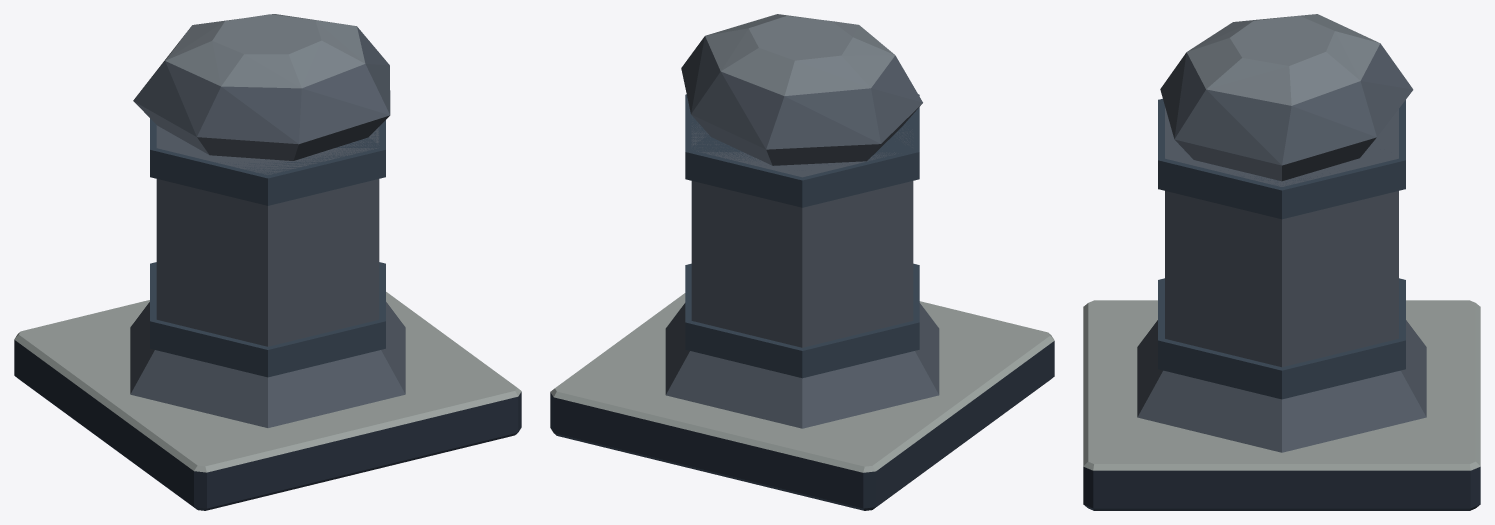
The model's file is pillar-broken.glb.
The picture shows the model from 3 angles, left to right: view 1: azimuth 30°, elevation 25°; view 2: azimuth 150°, elevation 25°; view 3: azimuth 270°, elevation 25°; orthographic projection. The views are drawn at different scales.
Parts seen in each view (by area): view 1: pillar-broken__body; view 2: pillar-broken__body; view 3: pillar-broken__body.
Part boxes in pixels (x1=…): pillar-broken__body: x1=14, y1=14, x2=521, y2=510; pillar-broken__body: x1=550, y1=14, x2=1054, y2=510; pillar-broken__body: x1=1083, y1=14, x2=1480, y2=510.
Size of the model in its own units: 1 by 1.08 by 1.
